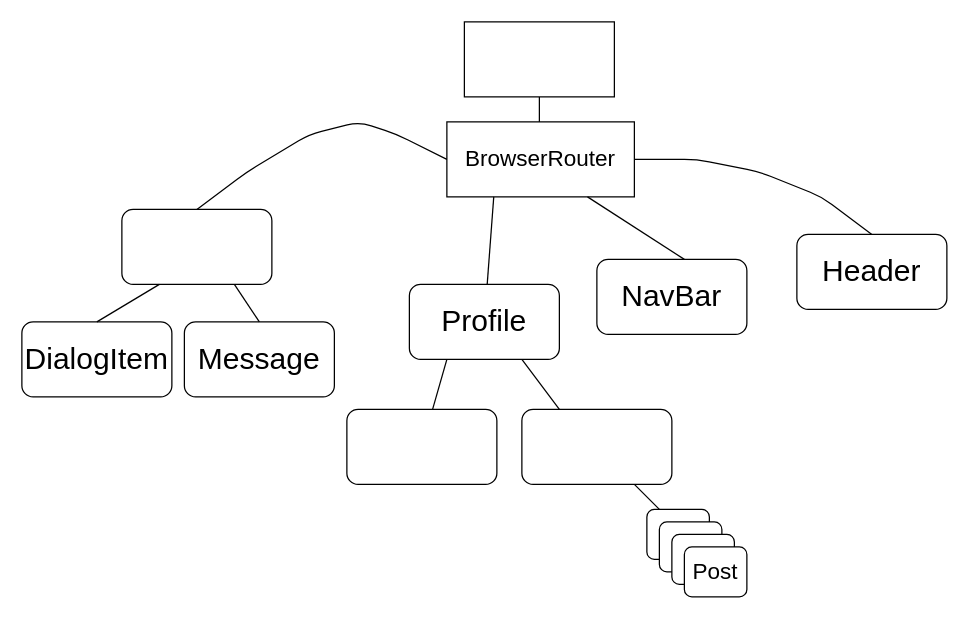
Image size: 969x619. Some labels were removed from this diagram. The shapes that lost their labels are listed below. From the top down, each one's box as (x1, y1, x2, y2) in pixels, then its label:
(463, 21, 614, 97): App
(121, 208, 272, 284): Dialogs
(346, 408, 497, 484): ProfileInfo
(521, 408, 672, 484): My posts
